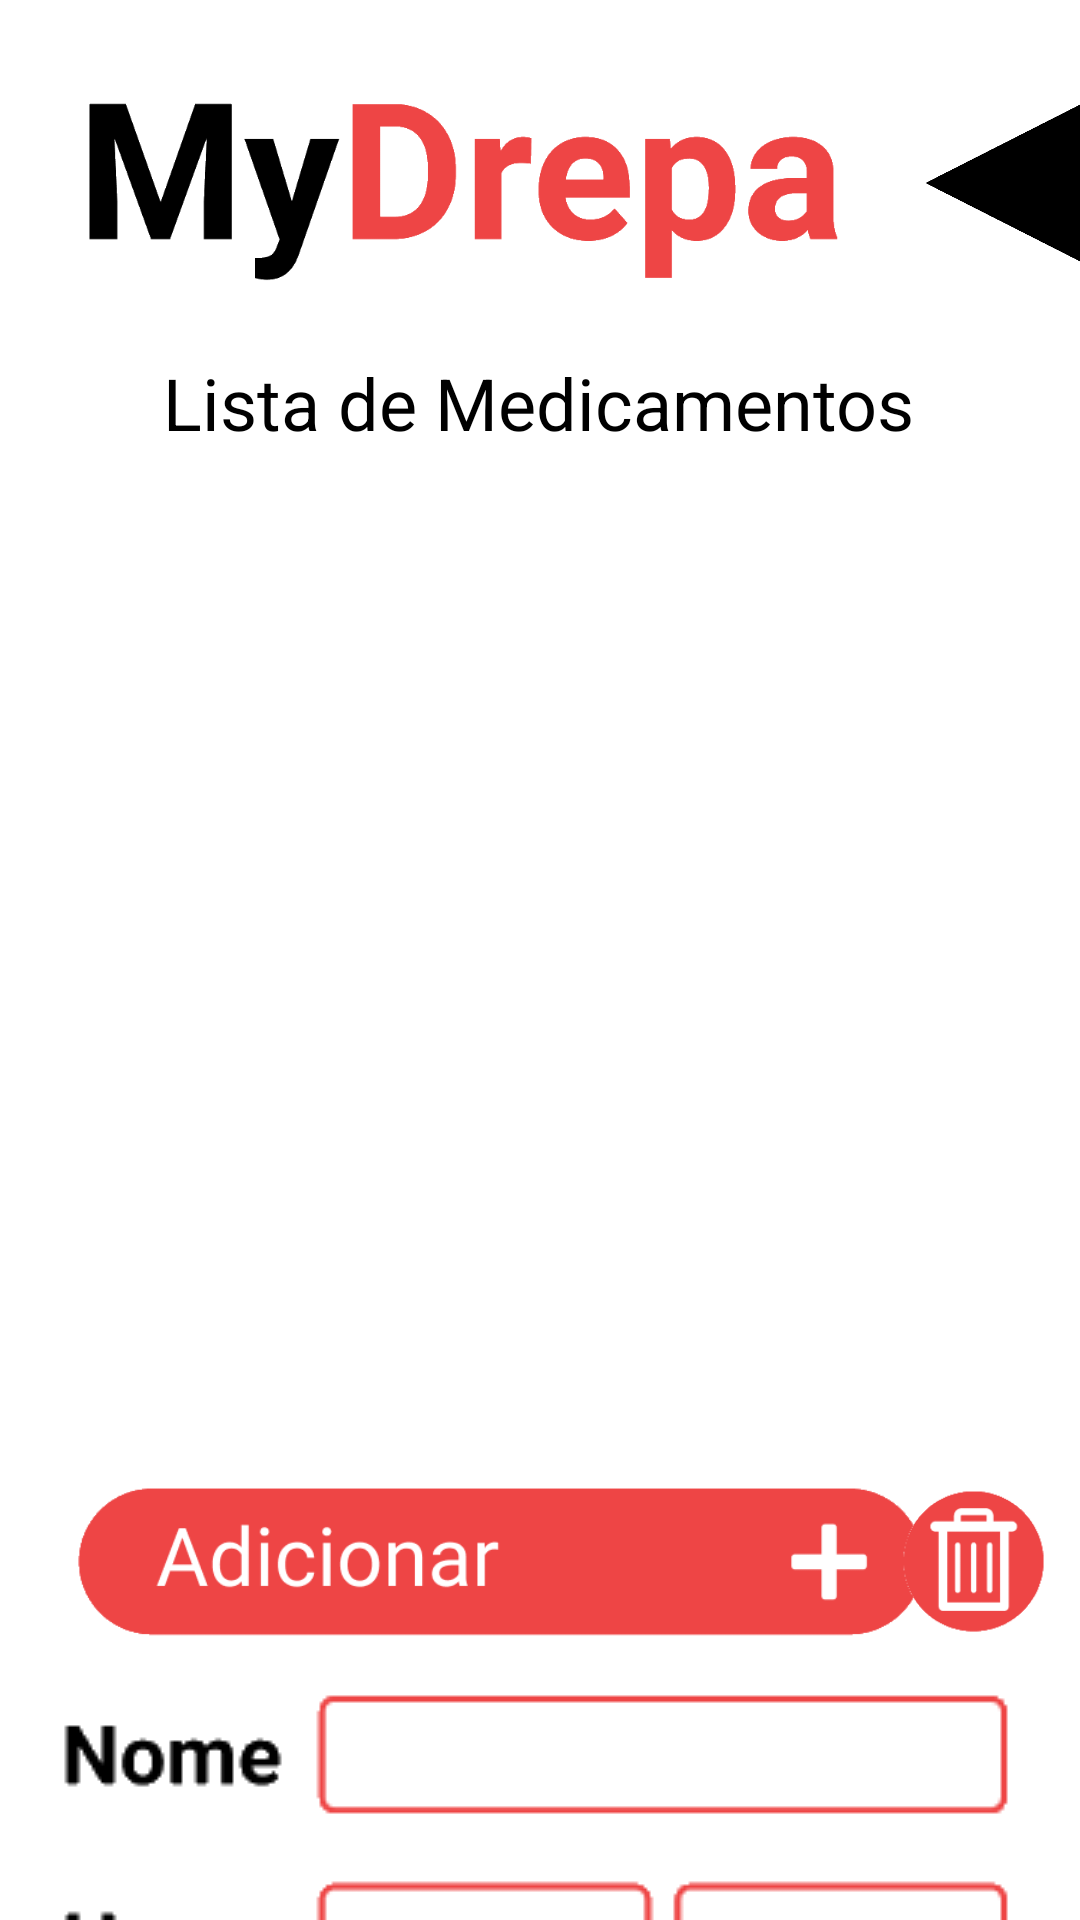

Icons on this 1080w x 1920h Android screen, each with its box as (x1, y1, x2, y2):
btndelete: (891, 1491, 1044, 1632)
